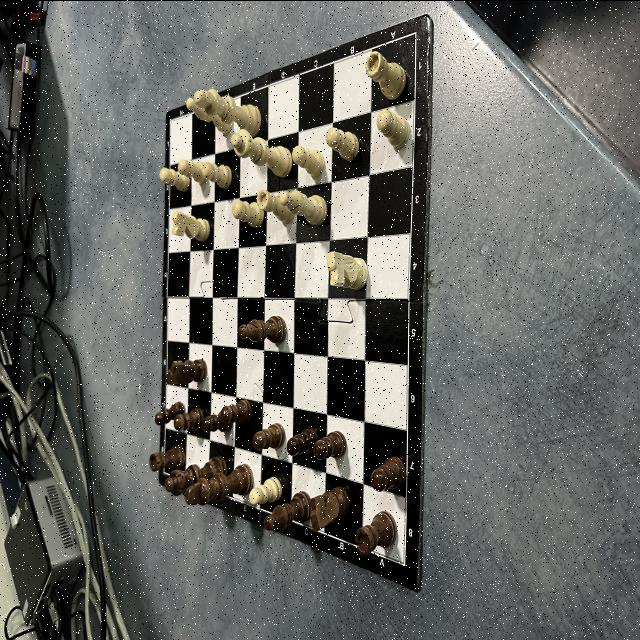Black-Bishop: (264, 490, 312, 530), (238, 314, 286, 342)
Black-King: (184, 462, 254, 505)
Black-Knight: (310, 484, 350, 532), (165, 358, 207, 384)
Black-Pawn: (370, 455, 406, 491), (313, 430, 347, 460), (286, 426, 318, 456), (252, 422, 286, 450), (173, 406, 205, 432), (221, 398, 252, 424), (156, 400, 186, 426), (202, 408, 233, 432)
Black-Queen: (164, 453, 228, 497)
Black-Rook: (355, 510, 397, 556), (150, 442, 187, 472)
White-Bishop: (194, 88, 262, 138), (186, 96, 233, 134)
White-Knight: (172, 209, 210, 241)
White-Pawn: (248, 475, 282, 505), (202, 161, 232, 189), (159, 166, 191, 192), (178, 158, 208, 184)
